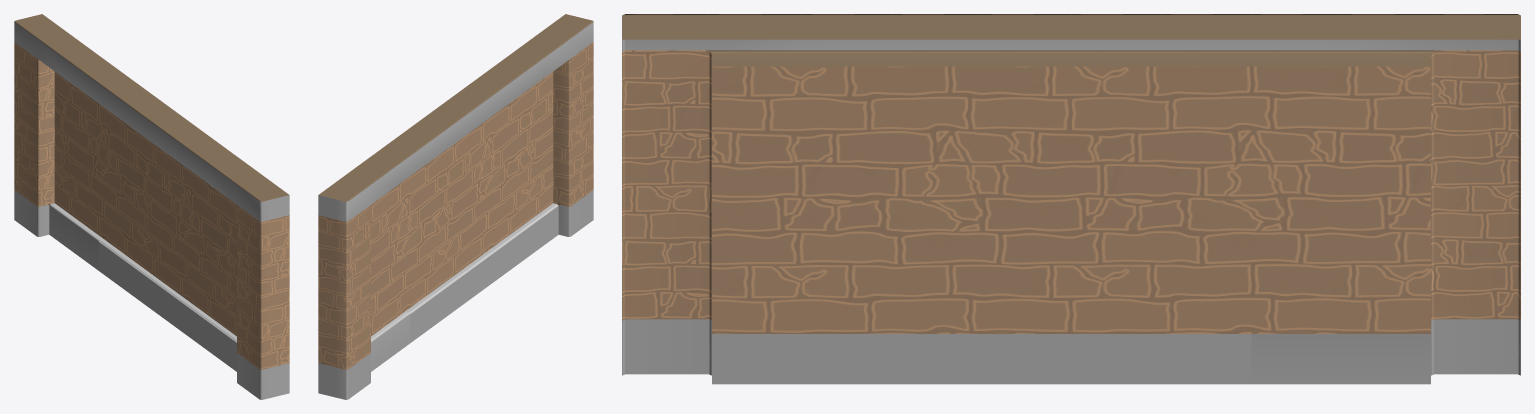
The model's file is Wall.fbx.
The picture shows the model from 3 angles, left to right: view 1: azimuth 30°, elevation 25°; view 2: azimuth 150°, elevation 25°; view 3: azimuth 270°, elevation 25°; orthographic projection. The views are drawn at different scales.
Parts seen in each view (by area): view 1: Wall; view 2: Wall; view 3: Wall.
Boxes of the visible parts, left/top/right/bottom form: Wall: left=14, top=14, right=289, bottom=399; Wall: left=318, top=14, right=593, bottom=399; Wall: left=622, top=14, right=1520, bottom=384.
Bounding box in the file's own units: 0.5658 × 3.7 × 8.37.
